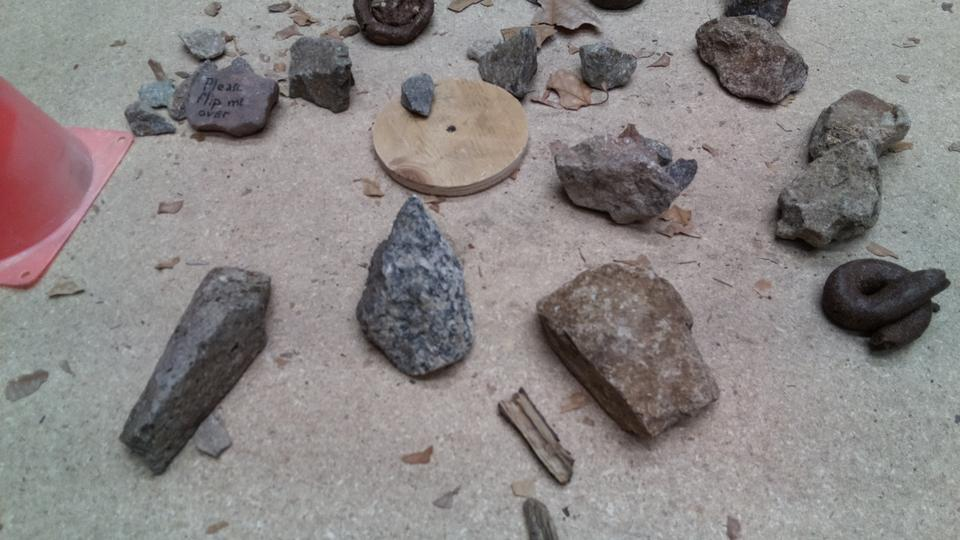poop: (821, 255, 952, 353), (350, 1, 437, 47)
